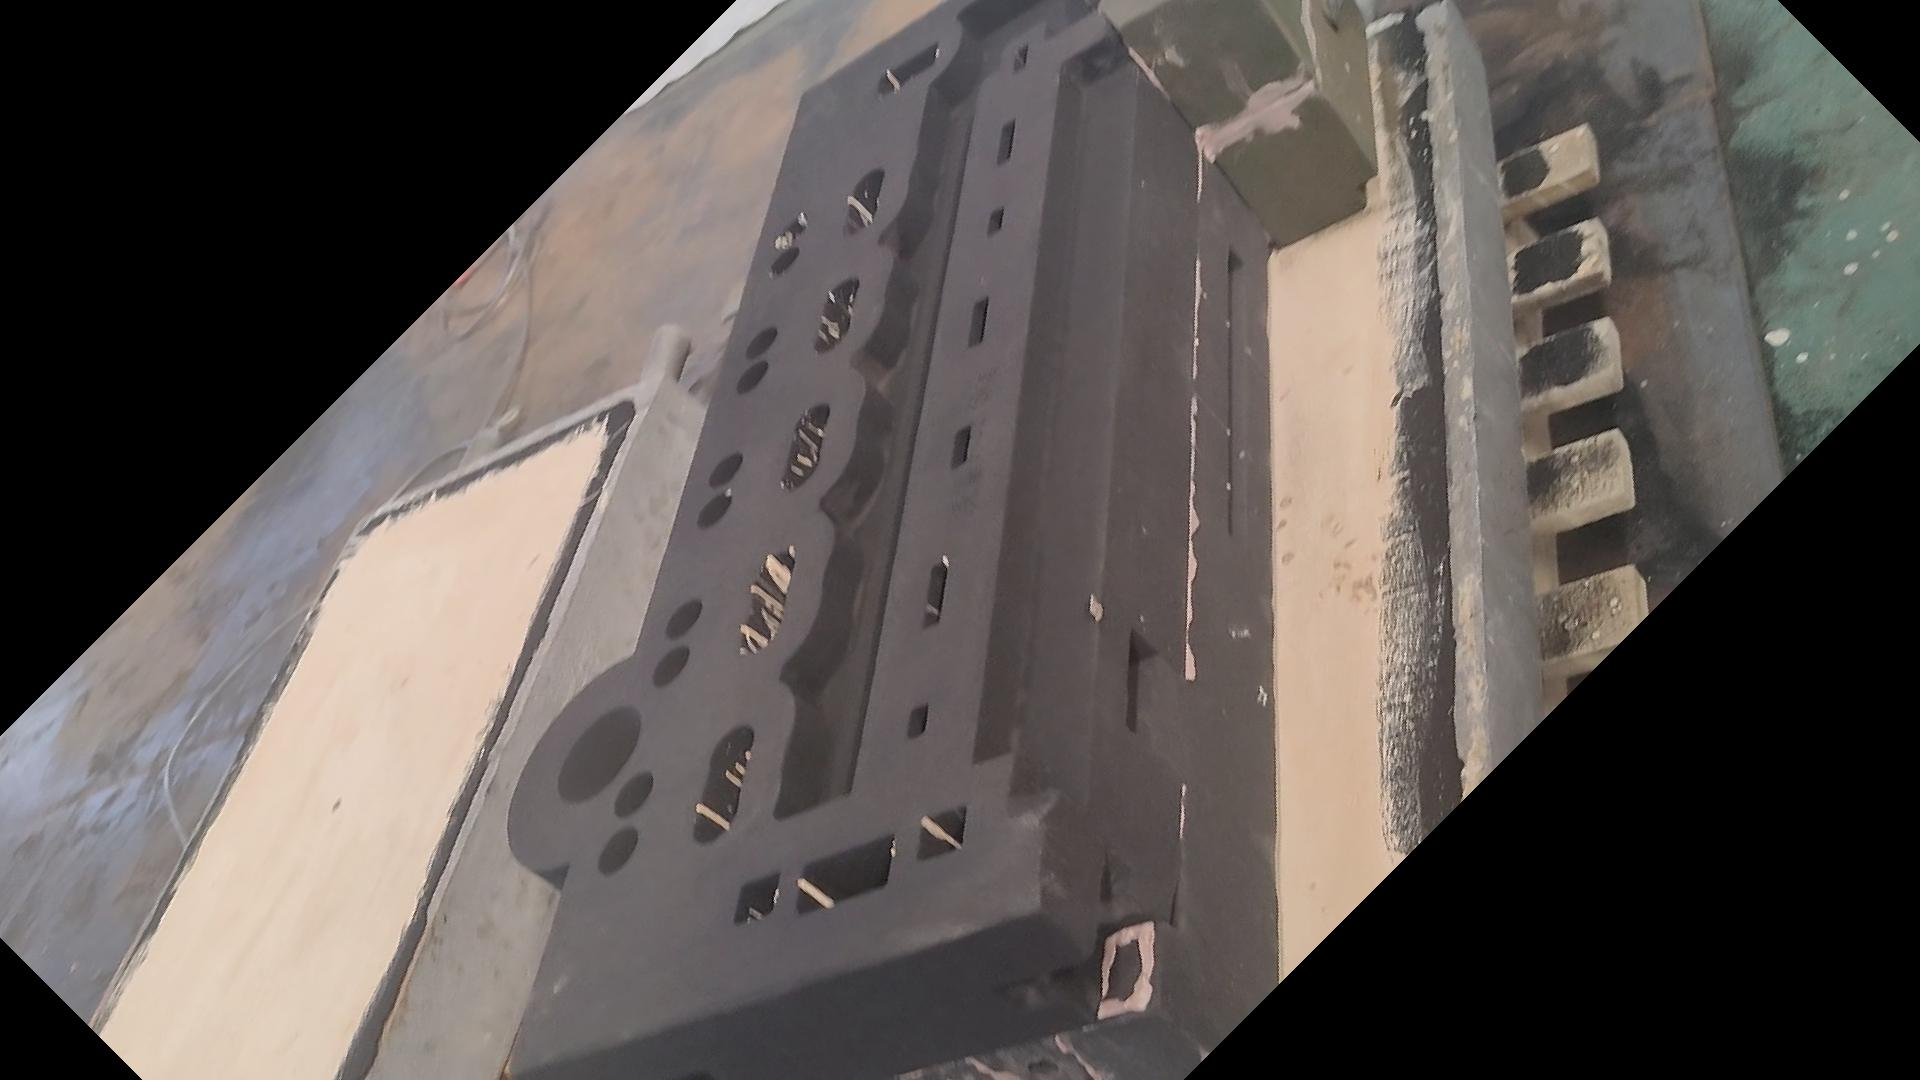pouring hole: (556, 705, 642, 803)
